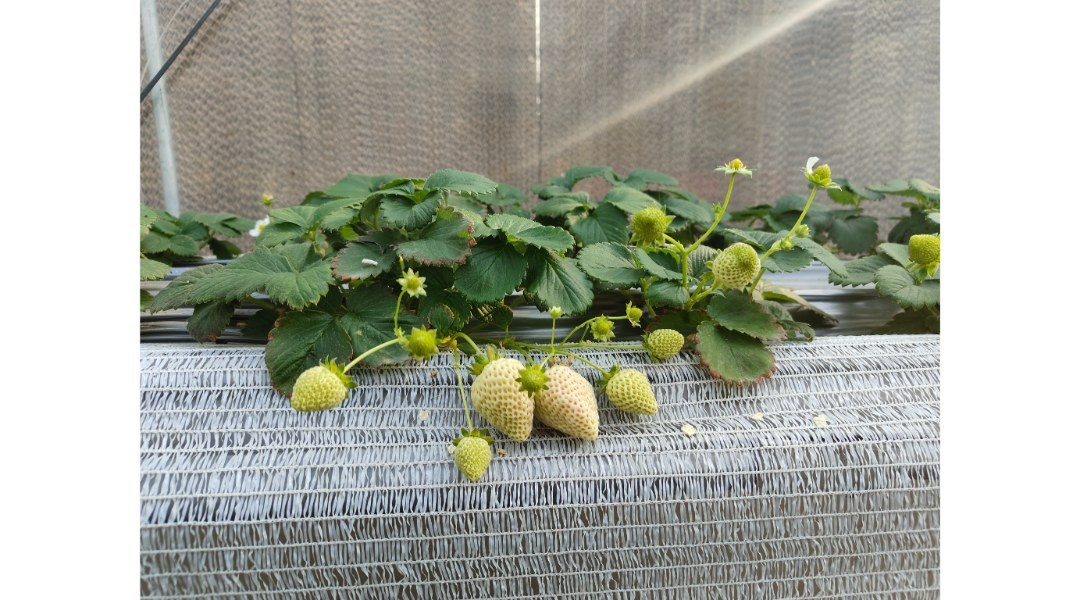berry: (468, 342, 538, 460), (535, 364, 608, 447), (283, 350, 361, 414), (591, 360, 669, 424), (887, 226, 953, 289), (433, 426, 505, 480), (700, 239, 763, 294), (626, 196, 673, 253), (793, 148, 842, 195), (398, 319, 440, 368), (642, 327, 685, 367), (391, 267, 432, 303), (587, 312, 619, 343), (625, 301, 647, 326), (787, 222, 818, 235), (775, 239, 795, 255), (548, 306, 562, 320)
flower: (703, 148, 756, 181)
strain: (333, 335, 401, 387), (688, 177, 734, 252), (774, 188, 819, 248), (453, 358, 473, 436), (560, 352, 615, 377), (669, 235, 688, 293)
